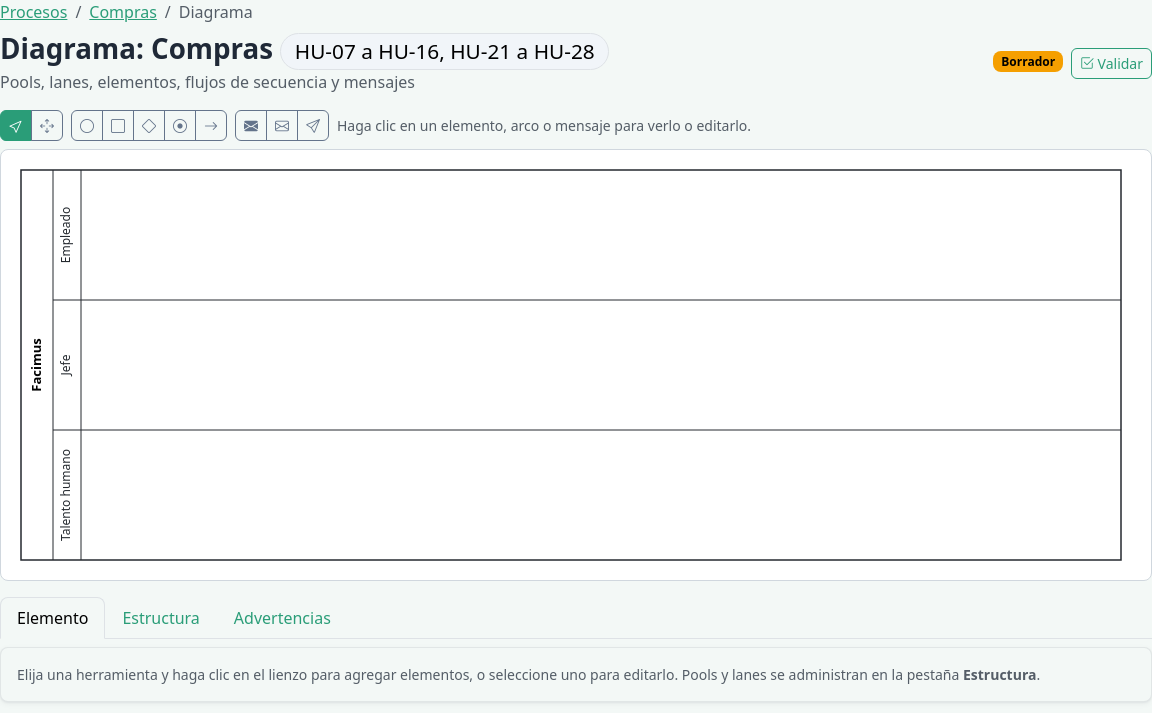
Test case: ProcesoEditorPageComponent: estructura en su pestaña (HU-21, HU-22, HU-24) › HU-24: con "solo administrador" el editor ve la estructura sin acciones
Click the button "Estructura": (161, 618) [105,597,217,639]
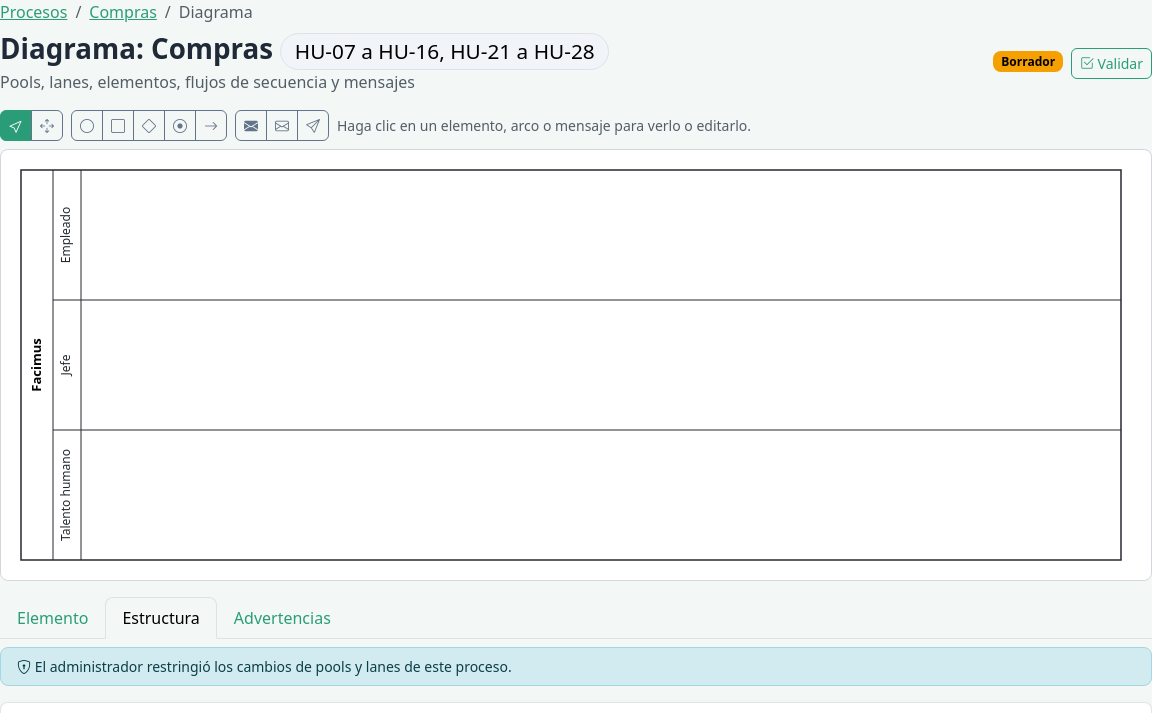
Check: the element with id "estructuraRestringidaMsg" is shown, box [0,647,1151,686]
